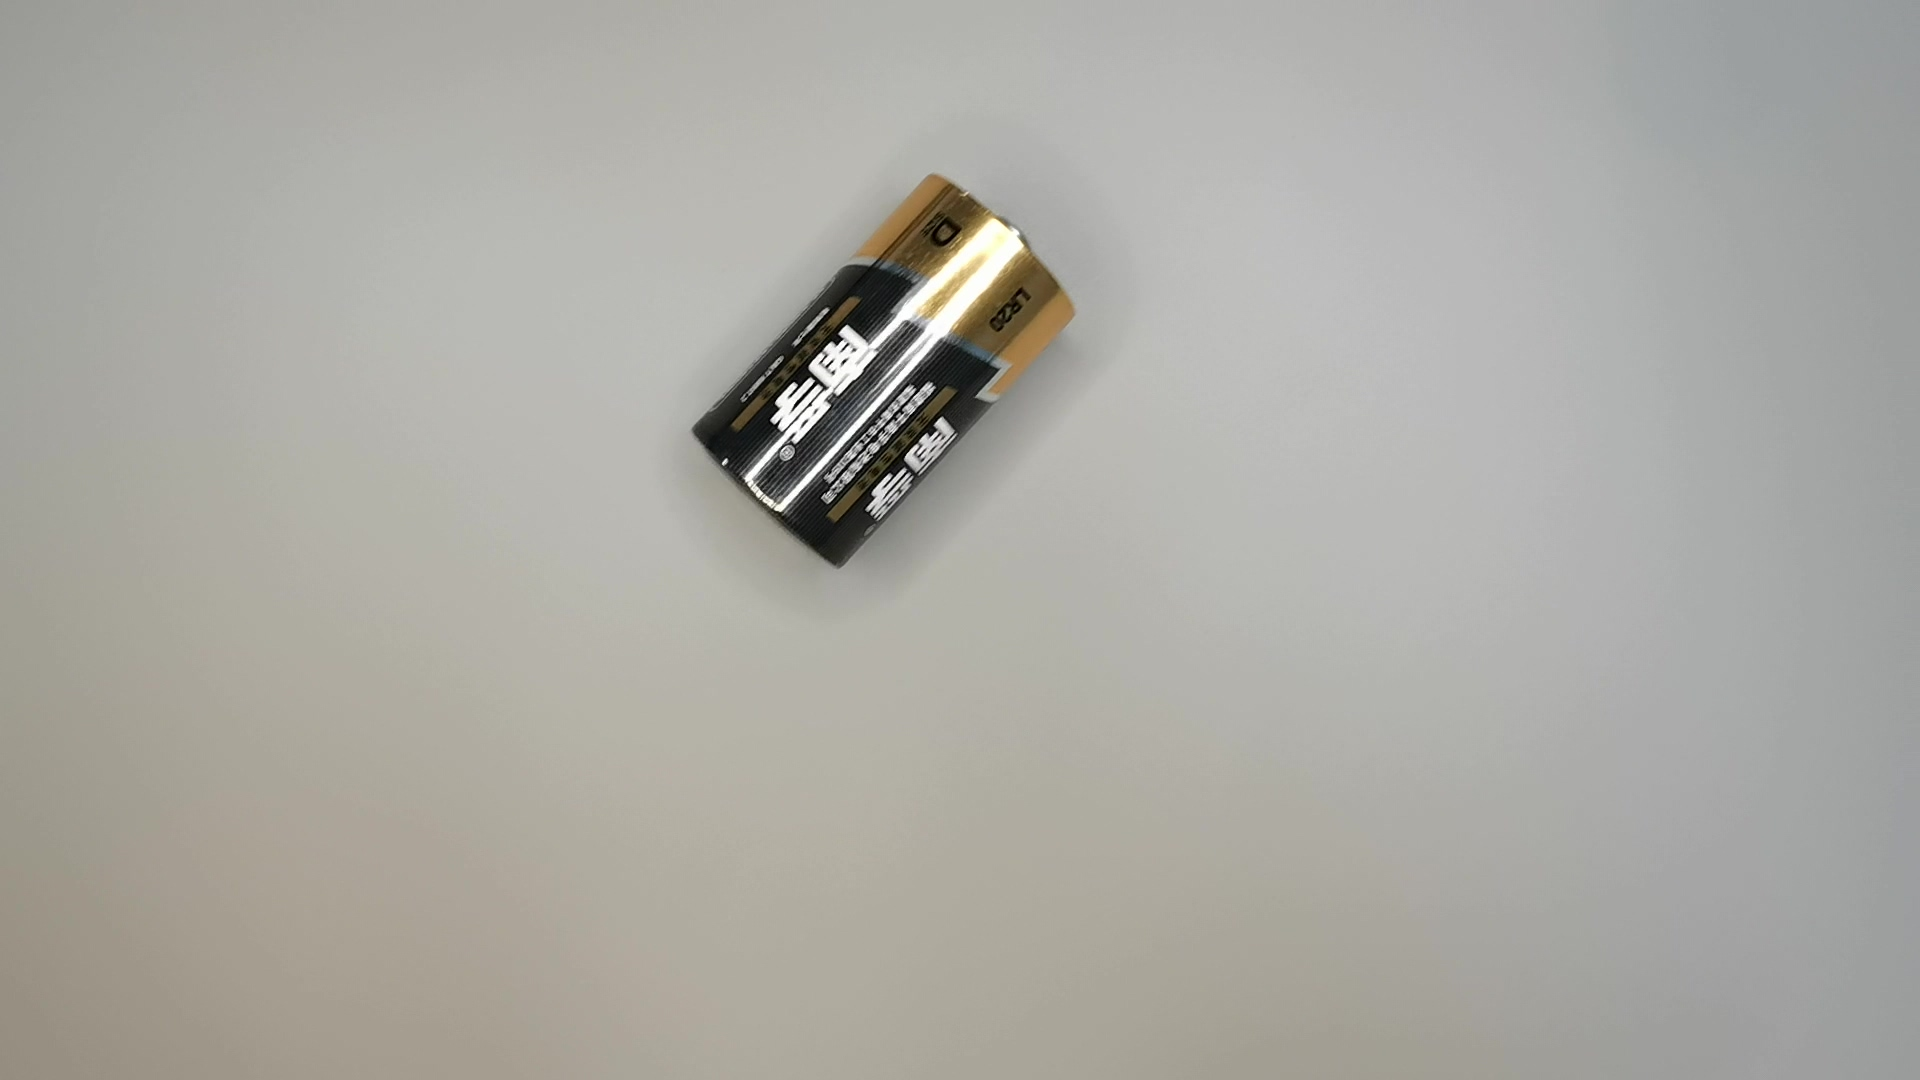battery: (694, 167, 1083, 580)
